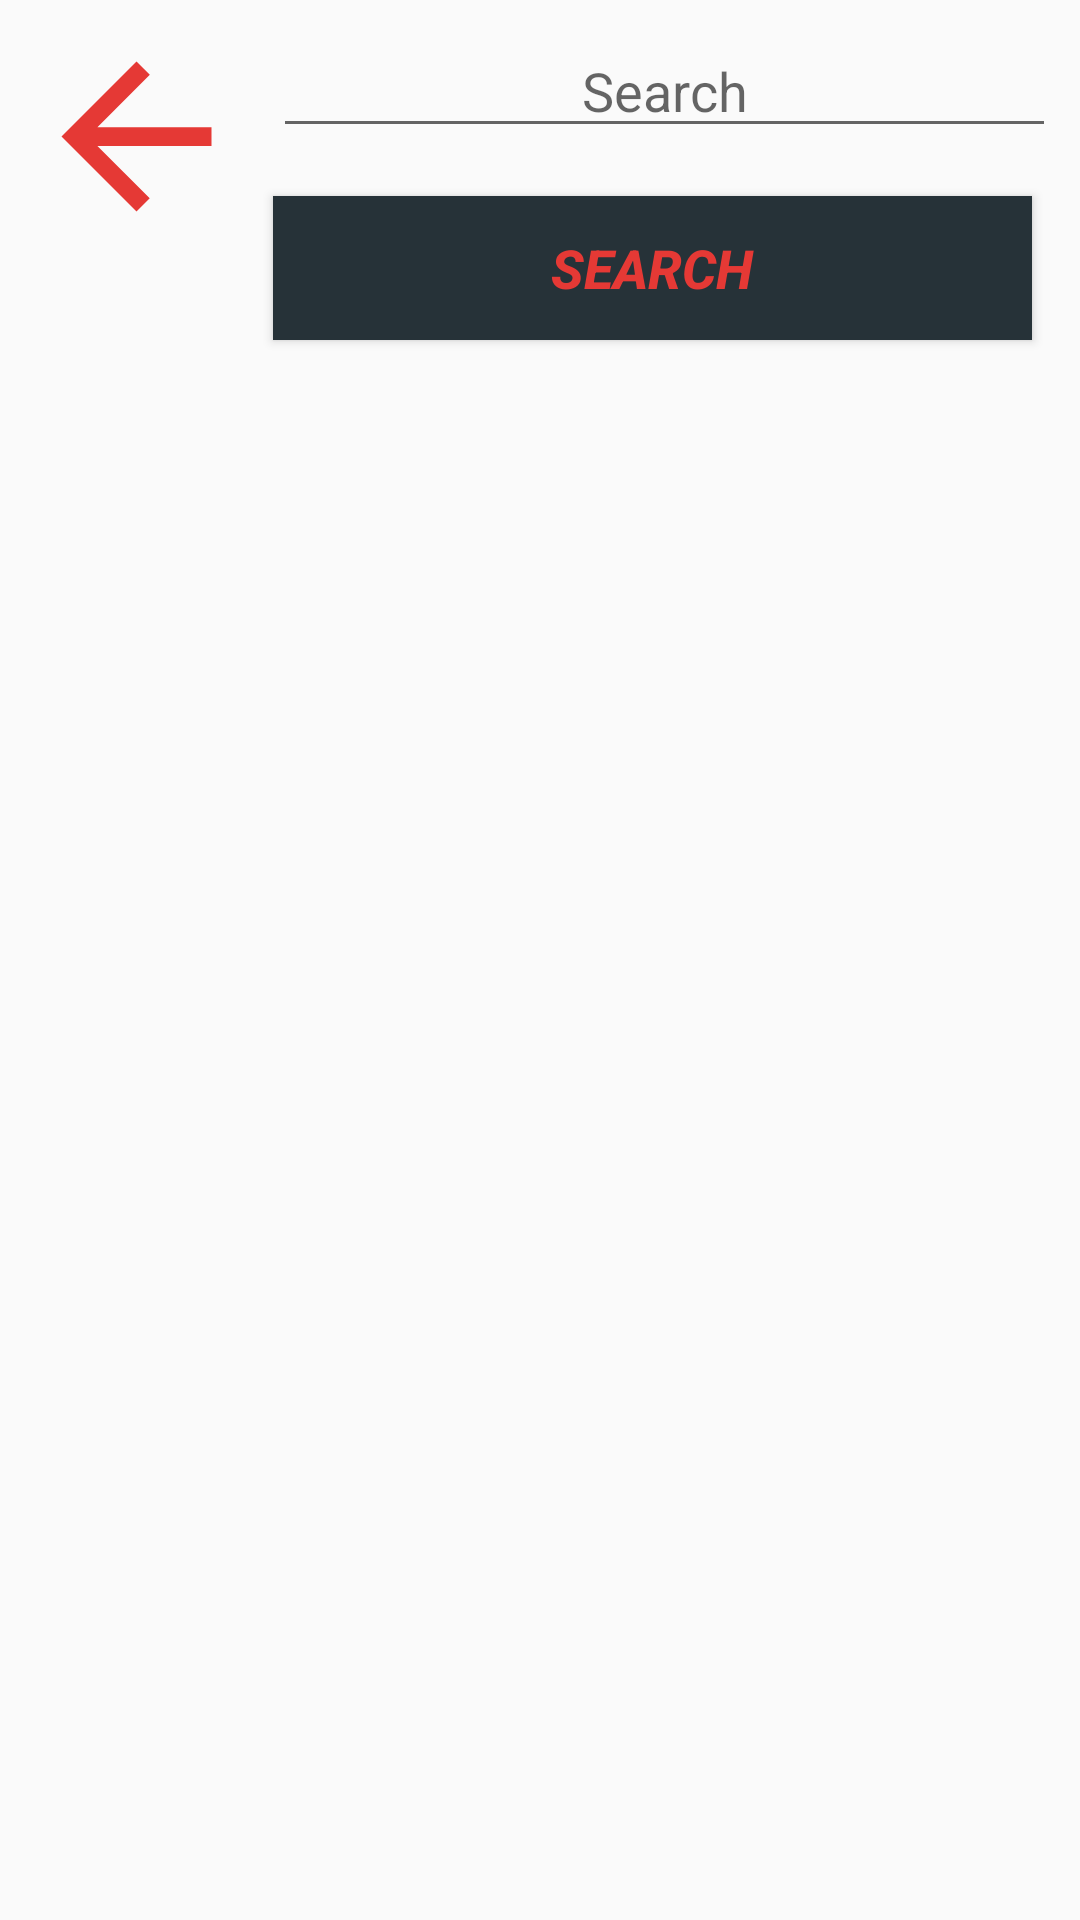

Screen size 1080×1920. Icon name, then its box in pixels as Rect(x1, y1, x2, y2):
back: Rect(61, 61, 212, 212)
